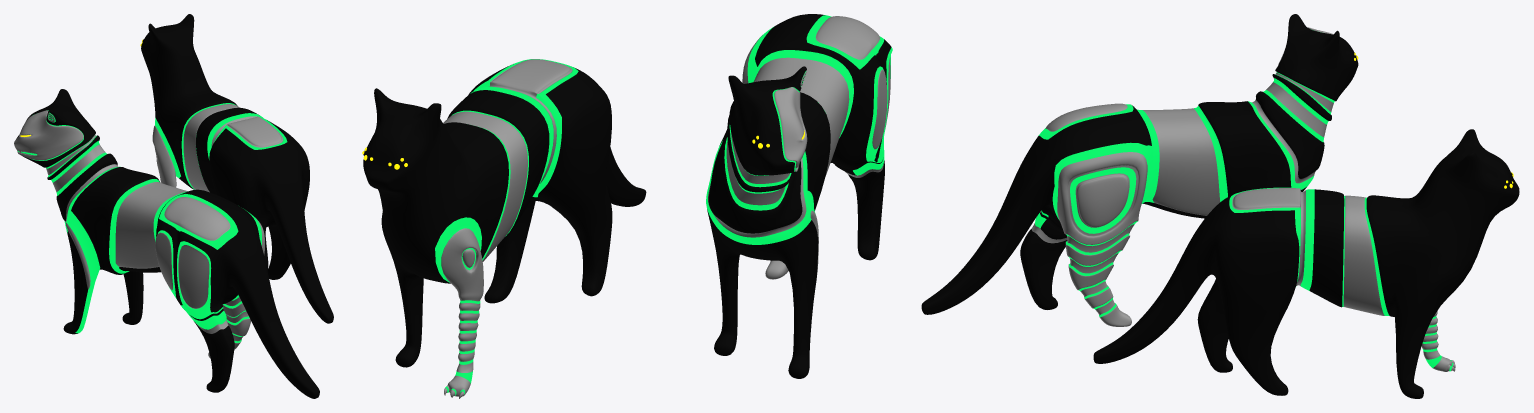
The model's file is cyberpunk_cats.glb.
The picture shows the model from 3 angles, left to right: view 1: azimuth 30°, elevation 25°; view 2: azimuth 150°, elevation 25°; view 3: azimuth 270°, elevation 25°; orthographic projection. The views are drawn at different scales.
Parts seen in each view (by area): view 1: Cube.007_2, Cube_3; view 2: Cube_3, Cube.007_2; view 3: Cube.007_2, Cube_3.
Boxes of the visible parts, x1,y1,x2,y2 form: Cube.007_2: [14, 89, 319, 398]; Cube_3: [141, 14, 333, 323]; Cube_3: [363, 59, 646, 398]; Cube.007_2: [706, 14, 892, 378]; Cube.007_2: [921, 14, 1358, 326]; Cube_3: [1093, 129, 1519, 398].
Size of the model in its own units: 0.4519 by 0.3823 by 0.7947.
